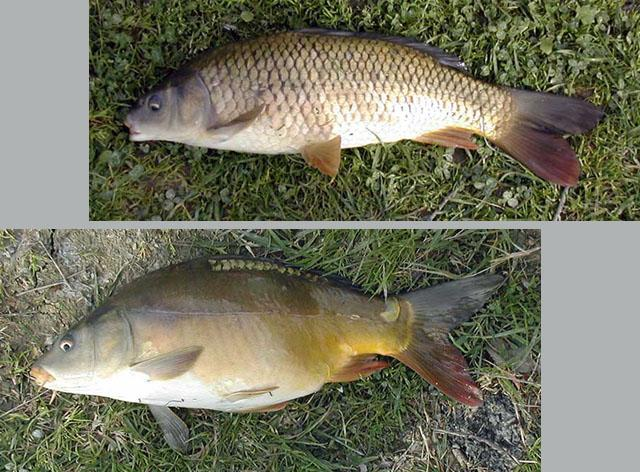Mulut: (14, 346, 58, 404), (112, 97, 146, 155)
Sirip Anal: (412, 112, 490, 170), (320, 348, 400, 400)
Sirip Dada: (126, 340, 212, 470), (200, 96, 278, 146)
Sirip Ekor: (408, 264, 516, 414), (494, 74, 610, 199)
Sirip Perut: (296, 126, 359, 192), (221, 369, 291, 427)
Sirip Punggung: (186, 245, 386, 303), (296, 19, 469, 79)
